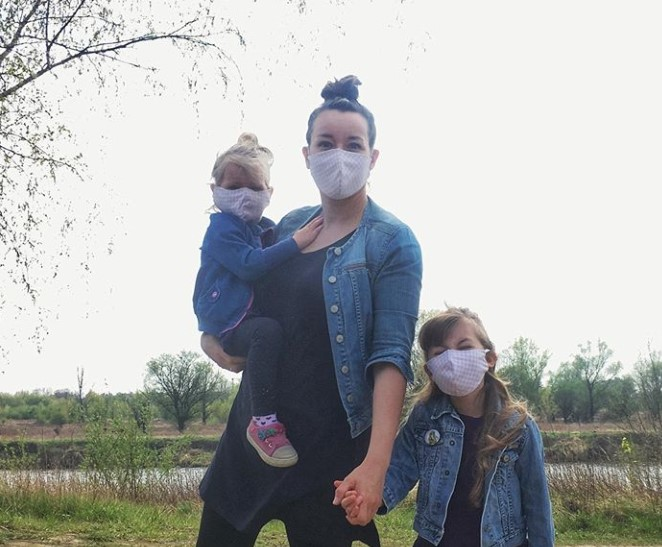face_with_mask: (301, 103, 383, 202), (420, 309, 495, 400), (207, 143, 272, 228)
